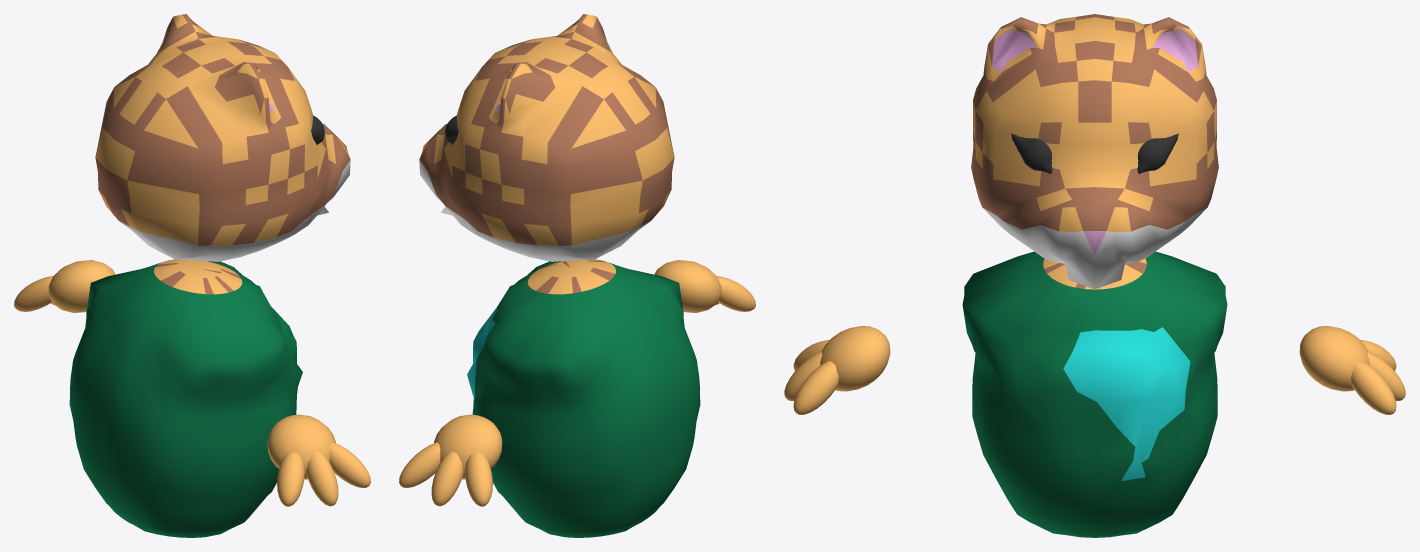
Rendered from jaguar.fbx.
The picture shows the model from 3 angles, left to right: view 1: azimuth 30°, elevation 25°; view 2: azimuth 150°, elevation 25°; view 3: azimuth 270°, elevation 25°; orthographic projection. The views are drawn at different scales.
Parts seen in each view (by area): view 1: jaguar, jag_hand_R, jag_hand_l; view 2: jaguar, jag_hand_l, jag_hand_R; view 3: jaguar, jag_hand_l, jag_hand_R.
Boxes of the visible parts, <box> form: jaguar: <box>69,14,350,537</box>; jag_hand_R: <box>267,414,370,506</box>; jag_hand_l: <box>14,260,115,312</box>; jaguar: <box>419,14,700,537</box>; jag_hand_l: <box>399,414,502,506</box>; jag_hand_R: <box>654,260,755,312</box>; jaguar: <box>962,14,1227,537</box>; jag_hand_l: <box>1299,326,1405,414</box>; jag_hand_R: <box>784,326,890,414</box>.
Bounding box in the file's own units: 267 × 484 × 524.
